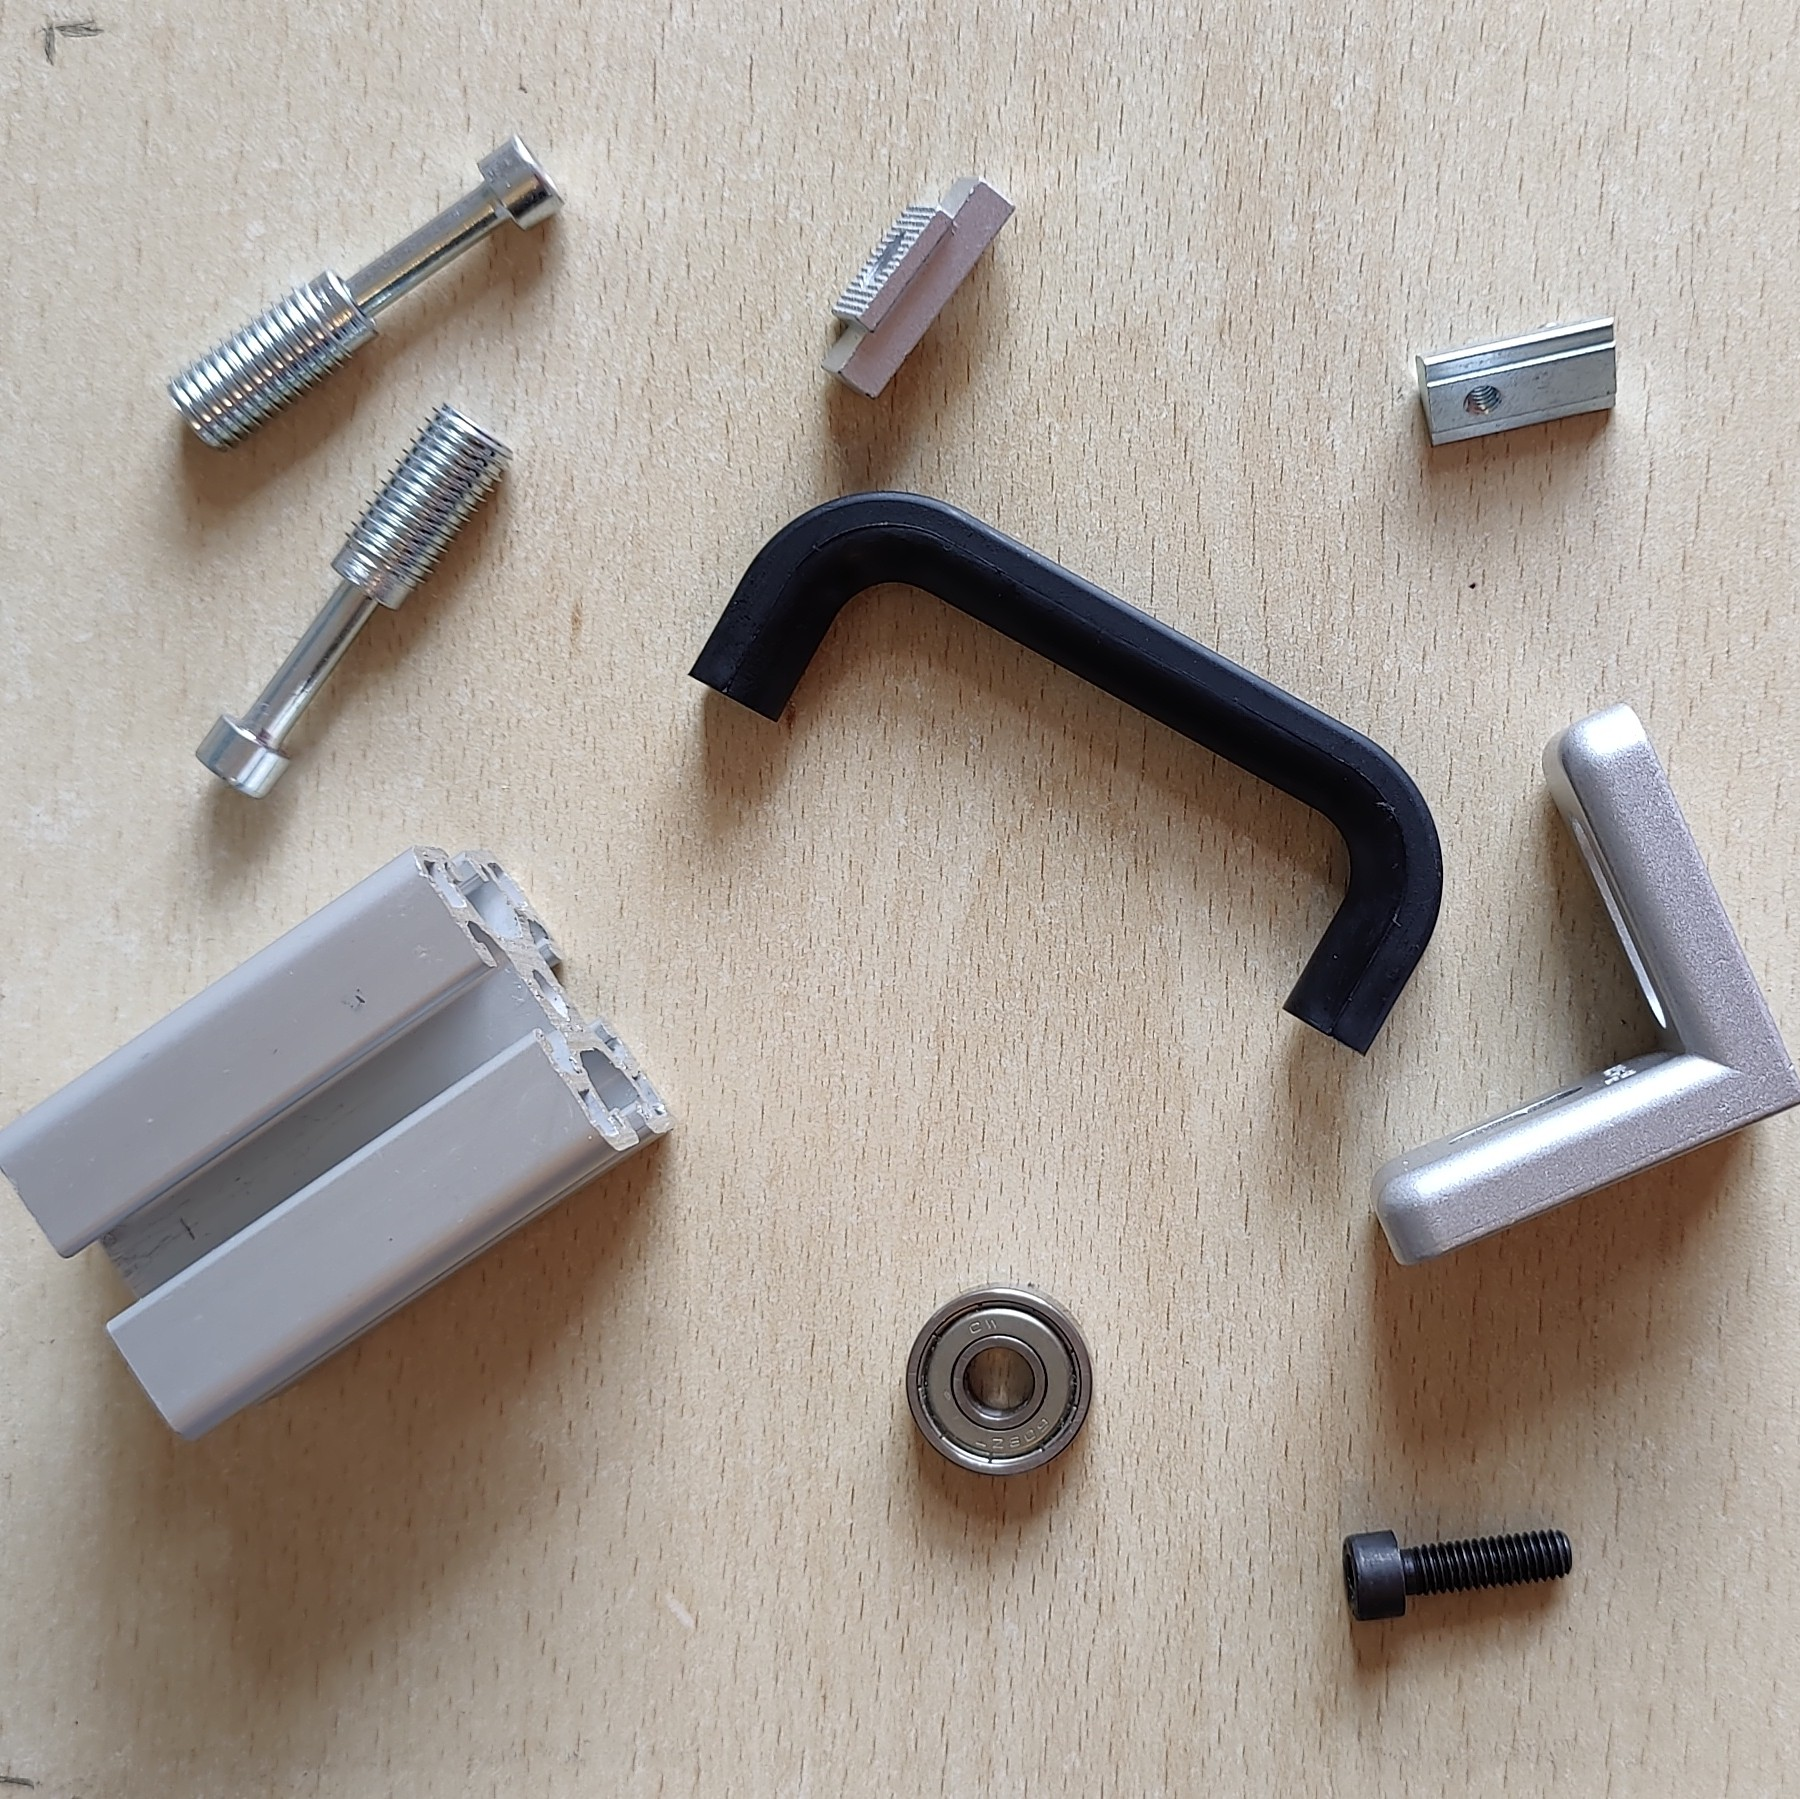Aluminium Extension: (2, 842, 678, 1446)
Ball Bearing: (902, 1280, 1092, 1479)
Multiwinkel: (1369, 699, 1800, 1272)
Pull Handle: (687, 486, 1444, 1056)
Shoulder Socket Head Cap Screw: (191, 395, 515, 804), (161, 128, 567, 453)
Socket Head Cap Screw: (1341, 1522, 1576, 1624)
T Nut Square: (815, 171, 1016, 405)
T Spring Nut: (1411, 313, 1620, 450)
